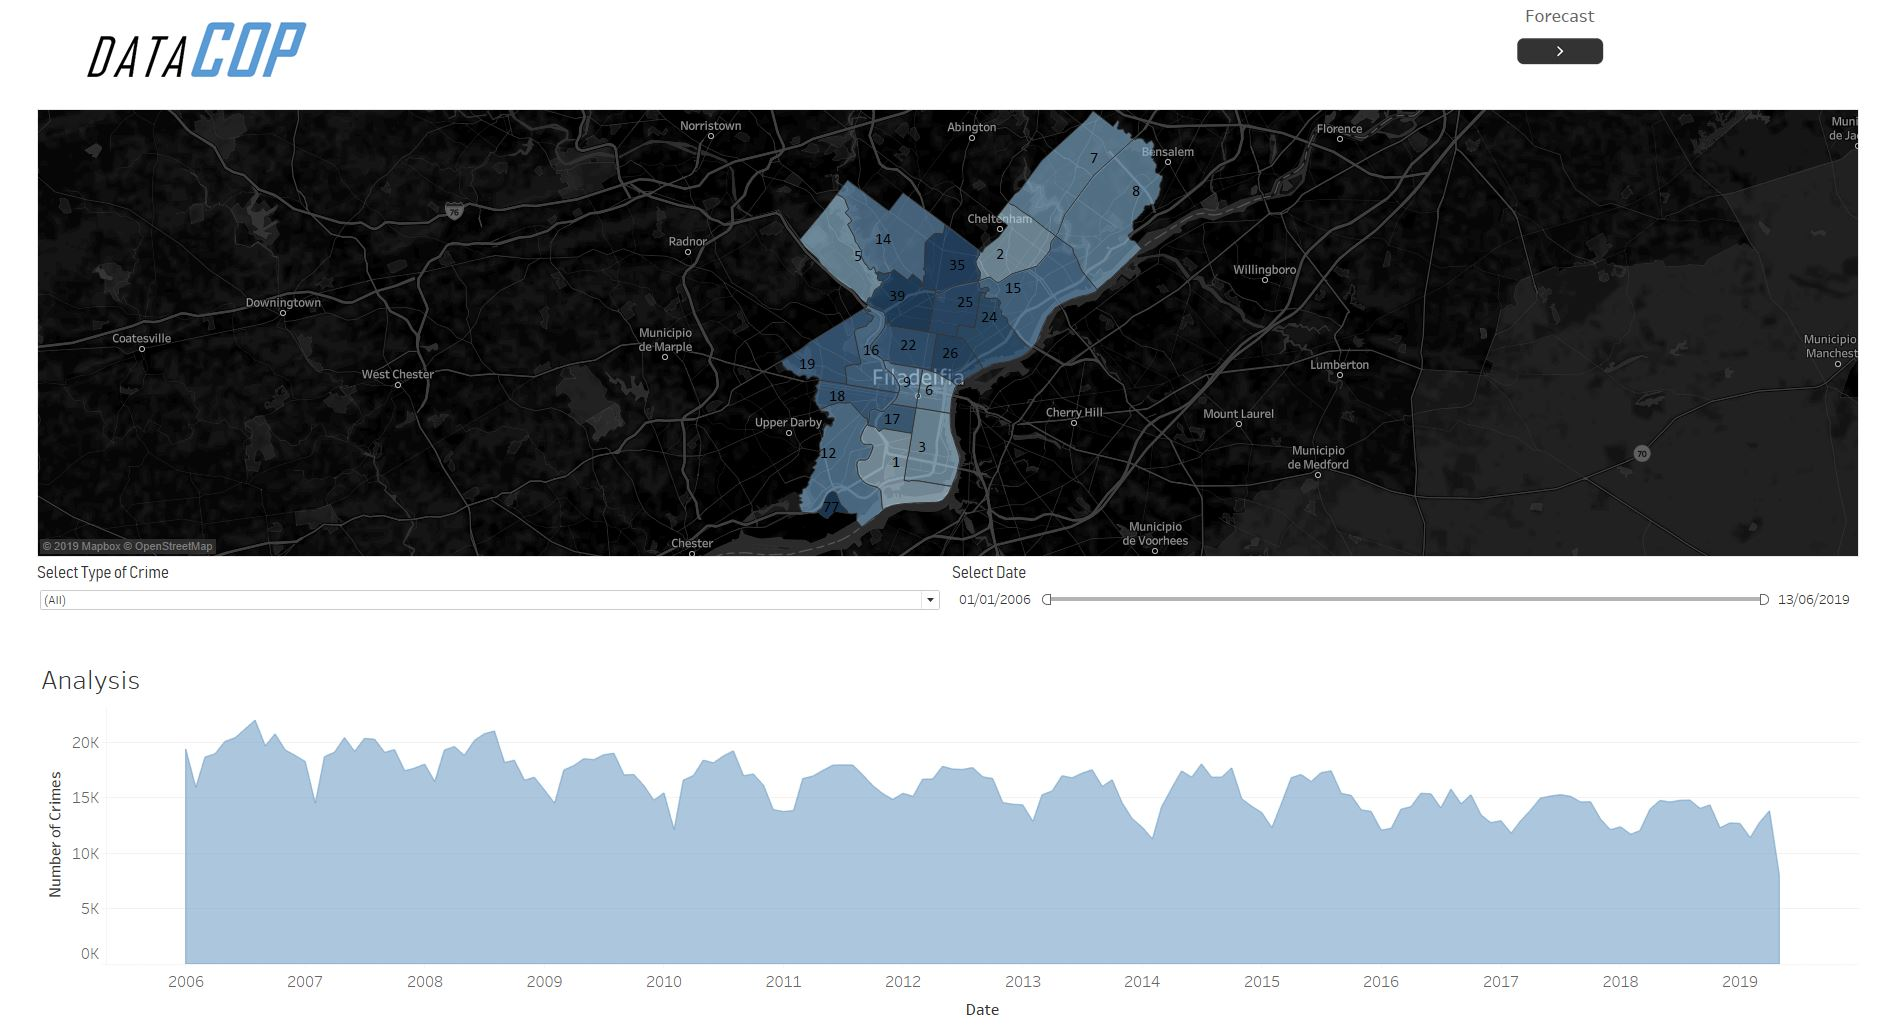

What the dashboard file says about the page in this screenshot:
{"tool":"tableau","page":{"name":"Dashboard 2","canvas":[1000,1000],"units":"permille","ordinal":1},"visuals":[{"type":"blank","box":[4.8,8.6,18.9,982.8]},{"type":"blank","box":[23.8,8.6,21.6,103]},{"type":"image","param":"C:/Users/Eduardo/Desktop/KSCHOOL/DataCopBlue.png","box":[45.3,8.6,127.6,103]},{"type":"blank","box":[172.9,8.6,589.5,103]},{"type":"text","box":[762.4,8.6,111.1,34.3]},{"type":"blank","box":[873.5,8.6,102.1,103]},{"type":"blank","box":[975.6,8.6,19.6,982.8]},{"type":"dashboard-object","box":[762.4,42.9,111.1,34.4]},{"type":"blank","box":[762.4,77.2,111.1,34.3]},{"type":"worksheet","title":"Map Analysis","mark":"Automatic","box":[23.8,111.6,951.8,433.3]},{"type":"filter","title":"Analysis","param":"[federated.0yws6ge02e1pmd17fh4ys1wlhcaq].[none:text_general_code:nk]","box":[23.8,544.9,475.7,88.5]},{"type":"filter","title":"Analysis","param":"[federated.0yws6ge02e1pmd17fh4ys1wlhcaq].[none:dispatch_date_time:qk]","box":[499.4,544.9,476.1,88.5]},{"type":"worksheet","title":"Analysis","mark":"Area","rows":["text_general_code"],"cols":["dispatch_date"],"box":[23.8,633.4,951.8,358]}]}

Visuals, with their boxes on the dashboard's canvas, which has no fixed pixel size, in thousandths of its width and height (x1, y1, x2, y2). These are canvas units, not pixel positions in the 1898x1033 screenshot, which may show the page scaled, cropped or inside an application window:
blank: crop(5, 9, 24, 991)
blank: crop(24, 9, 45, 112)
image: crop(45, 9, 173, 112)
blank: crop(173, 9, 762, 112)
text: crop(762, 9, 874, 43)
blank: crop(874, 9, 976, 112)
blank: crop(976, 9, 995, 991)
dashboard-object: crop(762, 43, 874, 77)
blank: crop(762, 77, 874, 112)
"Map Analysis" worksheet: crop(24, 112, 976, 545)
"Analysis" filter: crop(24, 545, 500, 633)
"Analysis" filter: crop(499, 545, 976, 633)
"Analysis" worksheet (Area marks): crop(24, 633, 976, 991)
